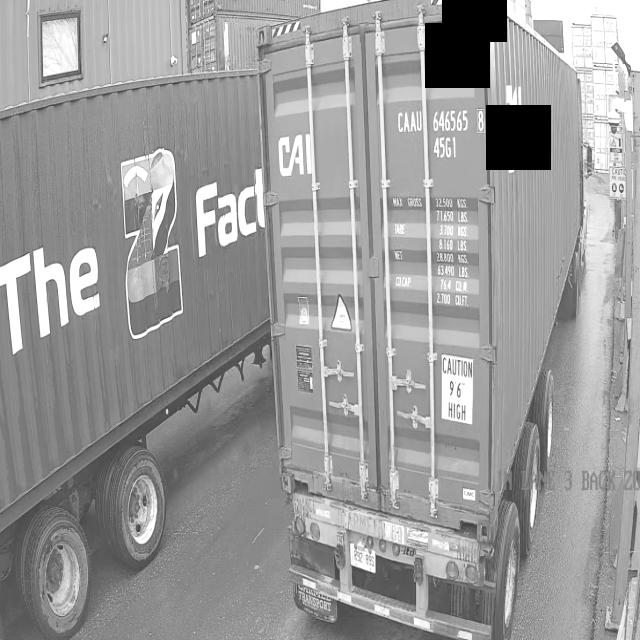container_company_logo: (275, 119, 330, 179)
container_number: (395, 102, 488, 179)
license_plate: (348, 539, 382, 573)
other_container_info: (387, 191, 471, 316)
truck_with_container: (258, 0, 587, 640), (0, 71, 275, 640)
